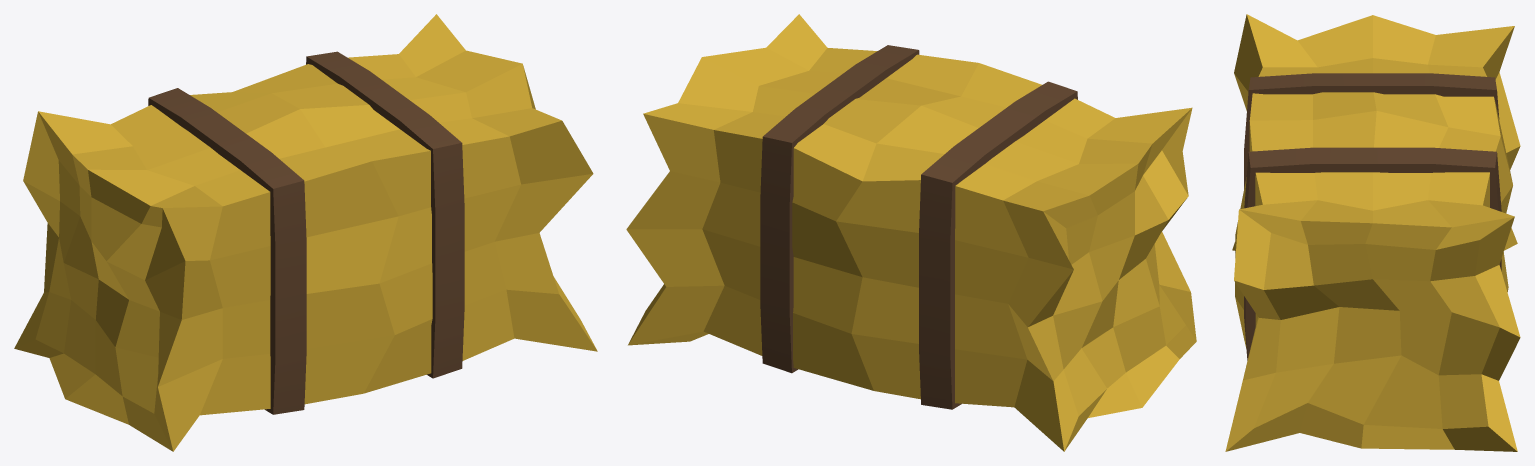
File: Chaff_B.fbx
3 renders of one model, left to right at view 1: azimuth 30°, elevation 25°; view 2: azimuth 150°, elevation 25°; view 3: azimuth 270°, elevation 25°, orthographic. The views are drawn at different scales.
Parts seen in each view (by area): view 1: Chaff_B; view 2: Chaff_B; view 3: Chaff_B.
Boxes of the visible parts, bbox=[...] form: Chaff_B: bbox=[14, 14, 597, 451]; Chaff_B: bbox=[626, 14, 1196, 451]; Chaff_B: bbox=[1225, 14, 1520, 451].
Bounding box in the file's own units: 115 × 62.06 × 67.01.
